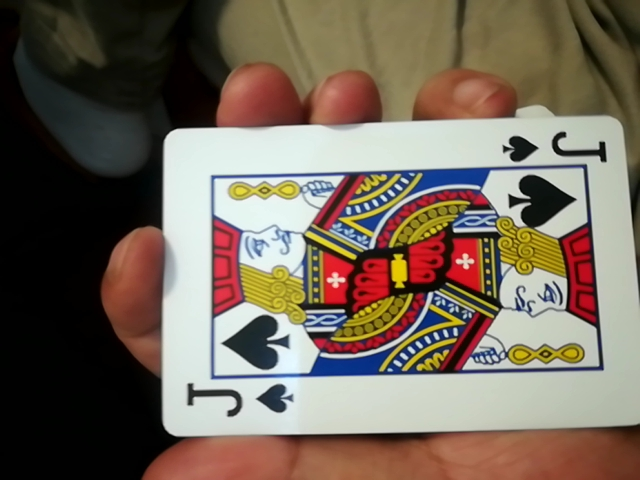ht j: (136, 112, 633, 446)
